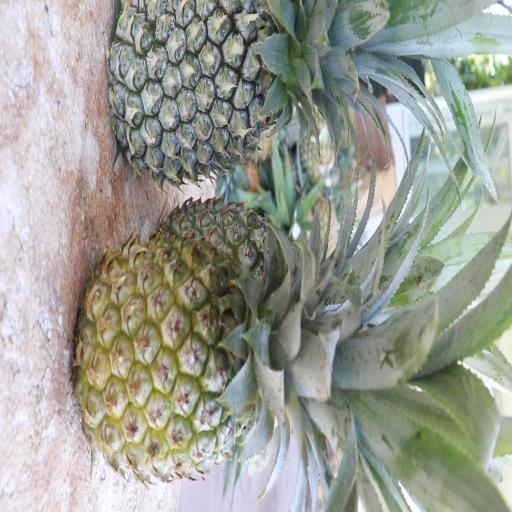------------------------------: (68, 228, 366, 492)
